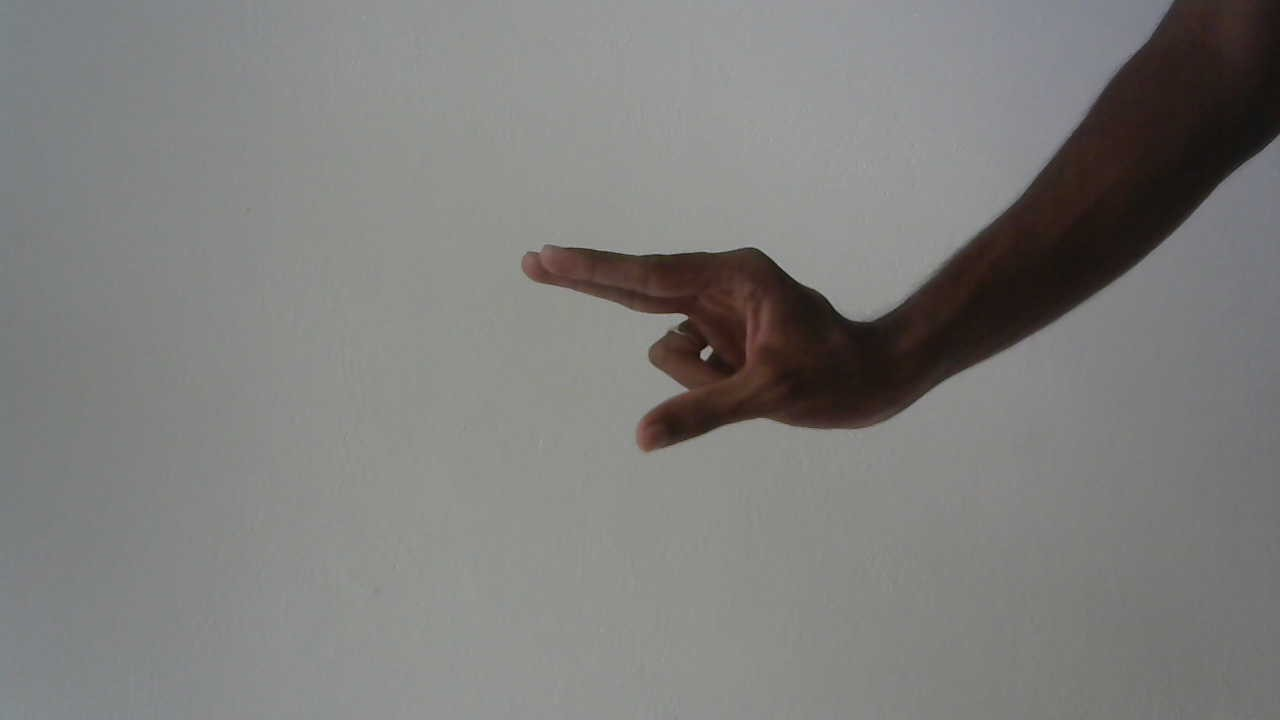no: (501, 233, 909, 461)
